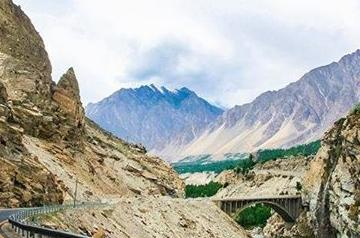right_turn: (0, 177, 91, 238)
